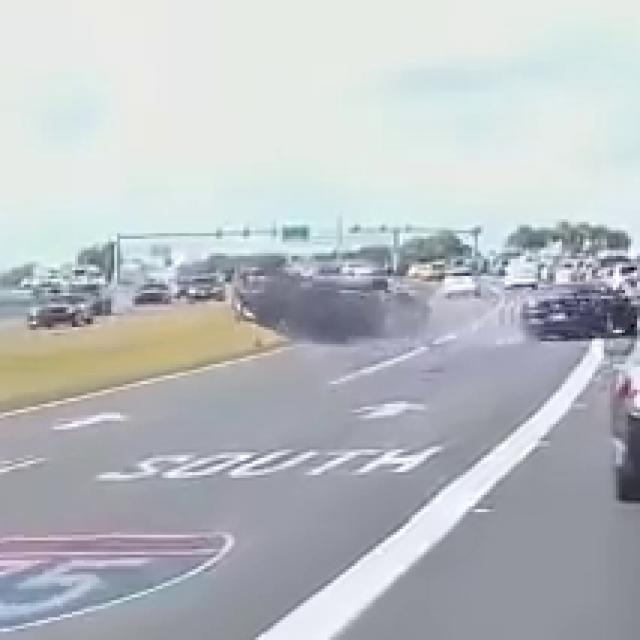accident: (223, 259, 432, 360)
